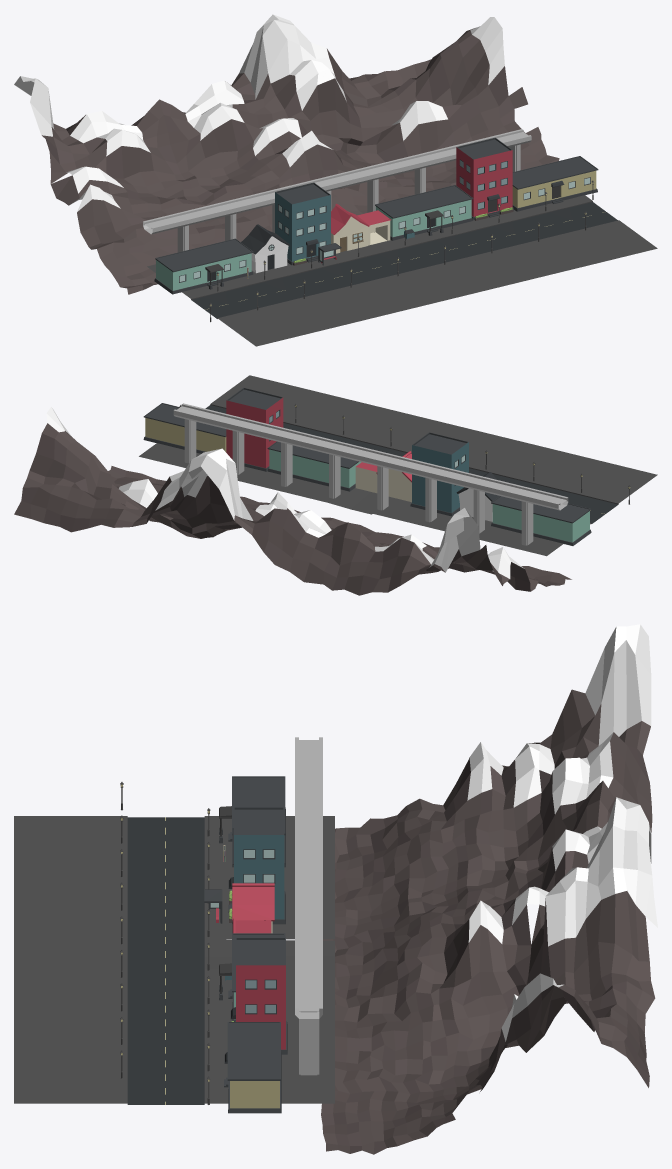
Rendered from CenaPrincipal.FBX.
3 renders of one model, top to bottom at view 1: azimuth 30°, elevation 25°; view 2: azimuth 150°, elevation 25°; view 3: azimuth 270°, elevation 25°, orthographic. The views are drawn at different scales.
Visible parts, largest first — view 1: Montanha, Rua, Passarela, Casa02, Casa07, CAsa05, Casa03, Casa01, Casa04, Casa06, Postes; view 2: Montanha, Rua, Passarela, Casa07, CAsa05, Casa02, Casa01, Casa03, Casa04, Casa06; view 3: Montanha, Rua, Passarela, Casa01, CAsa05, Casa02, Casa07, Casa04, Postes, Casa03.
Boxes of the visible parts, x1,y1,x2,y2 form: Montanha: (14, 14, 559, 294); Rua: (147, 195, 657, 346); Passarela: (143, 129, 531, 252); Casa02: (456, 137, 514, 220); Casa07: (154, 238, 253, 294); CAsa05: (275, 182, 330, 265); Casa03: (375, 185, 473, 240); Casa01: (512, 156, 598, 211); Casa04: (331, 203, 391, 253); Casa06: (241, 224, 290, 273); Postes: (209, 180, 593, 322); Montanha: (14, 407, 571, 595); Rua: (139, 375, 657, 556); Passarela: (173, 403, 568, 545); Casa07: (491, 496, 591, 545); CAsa05: (410, 432, 468, 516); Casa02: (226, 387, 283, 471); Casa01: (143, 403, 226, 453); Casa03: (267, 441, 361, 491); Casa04: (355, 451, 411, 502); Casa06: (456, 472, 499, 521); Montanha: (321, 624, 657, 1154); Rua: (14, 816, 334, 1104); Passarela: (295, 737, 322, 1075); Casa01: (224, 1022, 281, 1113); CAsa05: (228, 807, 285, 924); Casa02: (230, 937, 287, 1054); Casa07: (219, 776, 285, 867); Casa04: (232, 883, 274, 933); Postes: (120, 782, 210, 1104); Casa03: (219, 933, 285, 1021).
Bounding box in the file's own units: 2929 × 879 × 2420.
